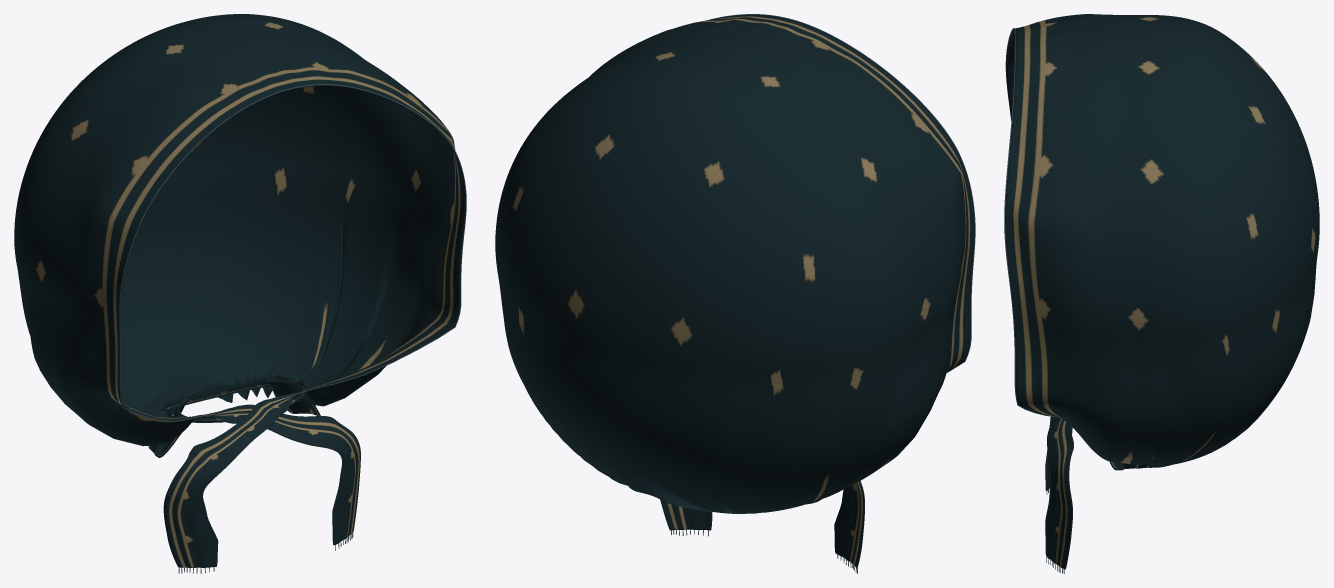
The model's file is Masculine-locs-tshirt-pashmina250-headgear.glb.
3 renders of one model, left to right at view 1: azimuth 30°, elevation 25°; view 2: azimuth 150°, elevation 25°; view 3: azimuth 270°, elevation 25°, orthographic. The views are drawn at different scales.
Parts seen in each view (by area): view 1: 226 headgear / Headwear / continuous woven pashmina239, 226 headgear / Headwear / face edge239; view 2: 226 headgear / Headwear / continuous woven pashmina239, 226 headgear / Headwear / face edge239; view 3: 226 headgear / Headwear / continuous woven pashmina239, 226 headgear / Headwear / face edge239.
Part boxes in pixels (x1,y1,x2,y2): 226 headgear / Headwear / continuous woven pashmina239: [14, 14, 465, 567]; 226 headgear / Headwear / face edge239: [119, 84, 466, 422]; 226 headgear / Headwear / continuous woven pashmina239: [495, 14, 974, 567]; 226 headgear / Headwear / face edge239: [706, 14, 975, 372]; 226 headgear / Headwear / continuous woven pashmina239: [1005, 14, 1319, 569]; 226 headgear / Headwear / face edge239: [1004, 28, 1051, 416].
Bounding box in the file's own units: 1.1 × 1.39 × 0.7988.
3 materials, 1 textured.
